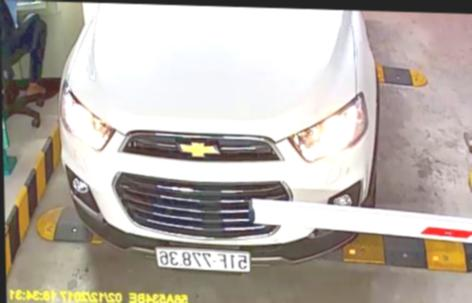License_Plate: (156, 243, 254, 273)
